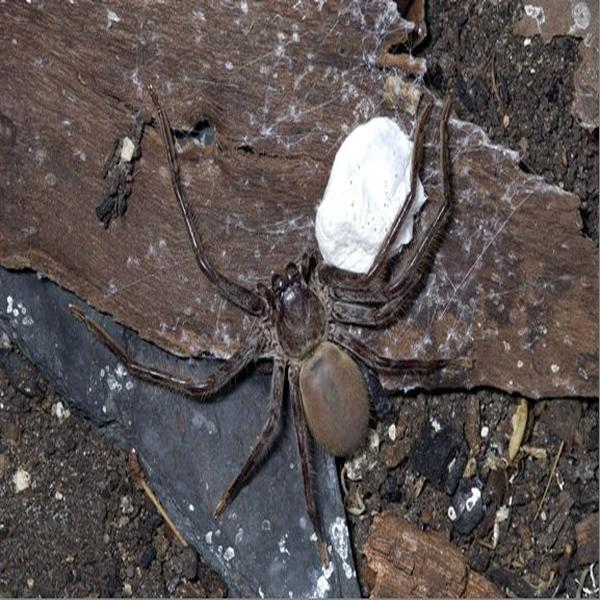Huntsman Spider: (77, 104, 458, 550)
